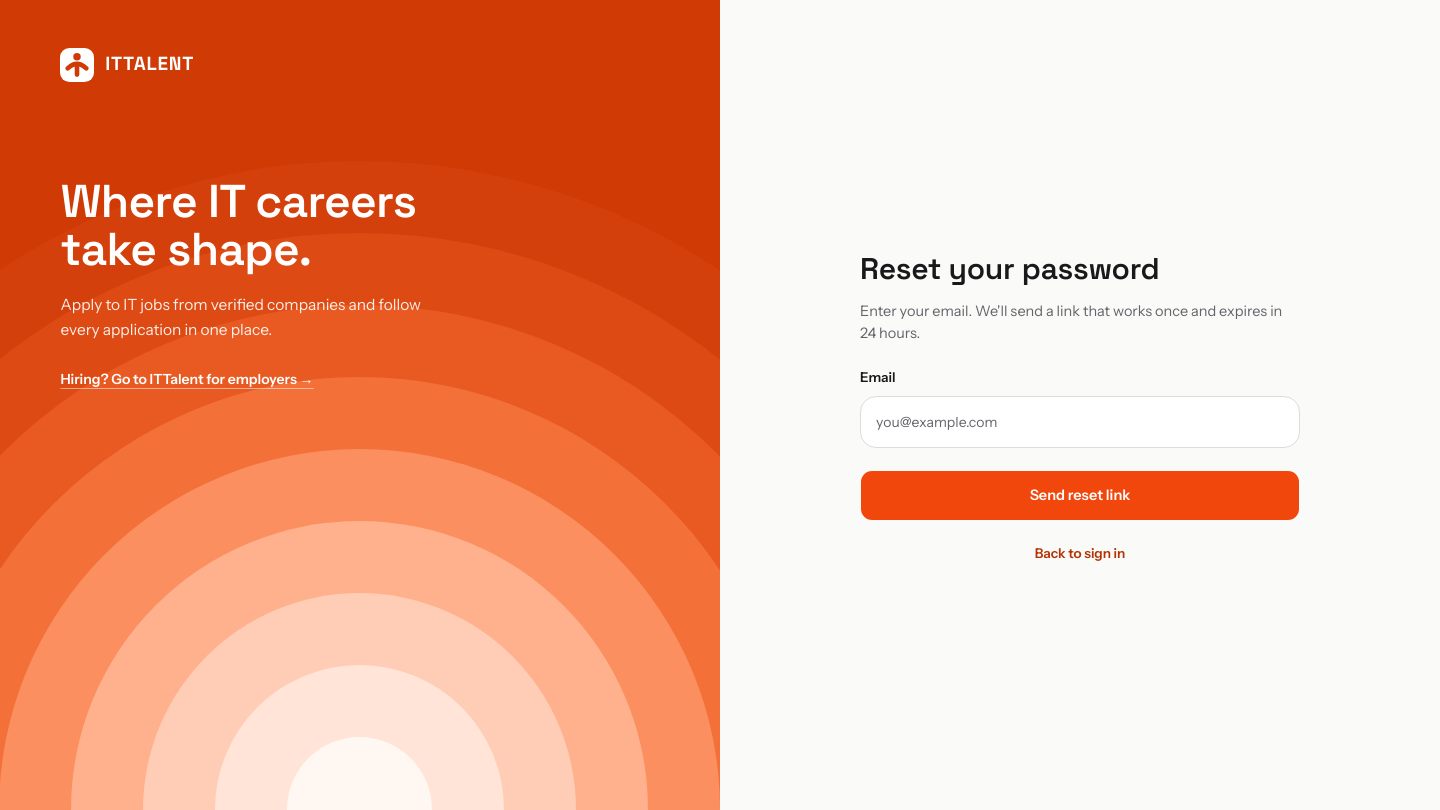
Test: ForgotPasswordPage › submits email and displays success notification on 200
Step 1. Type "user@example.com" into the field labelled "Email" → (1080, 422), box [860, 396, 1300, 448]
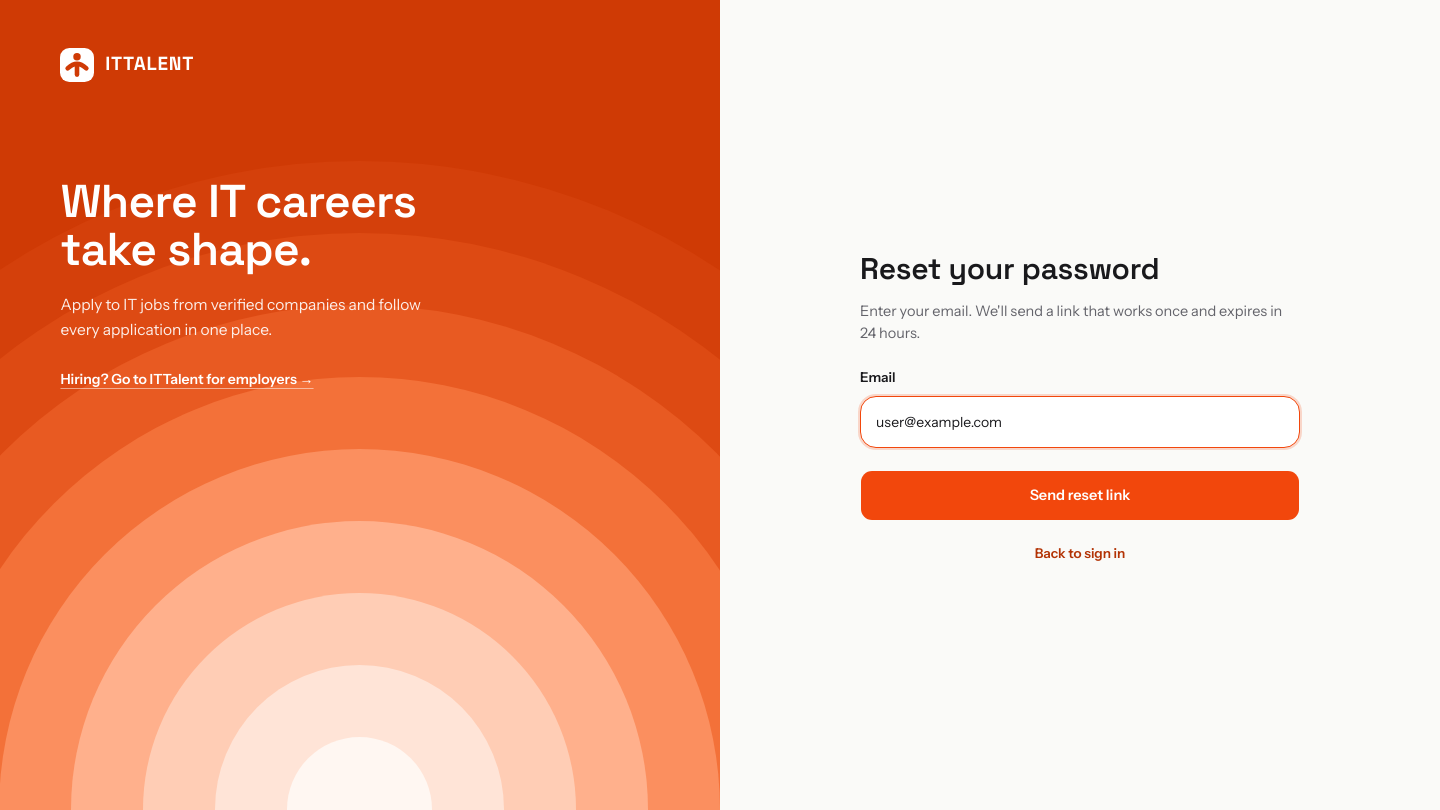
Step 2. Click the button "Send reset link" → (1080, 496), box [860, 470, 1300, 521]
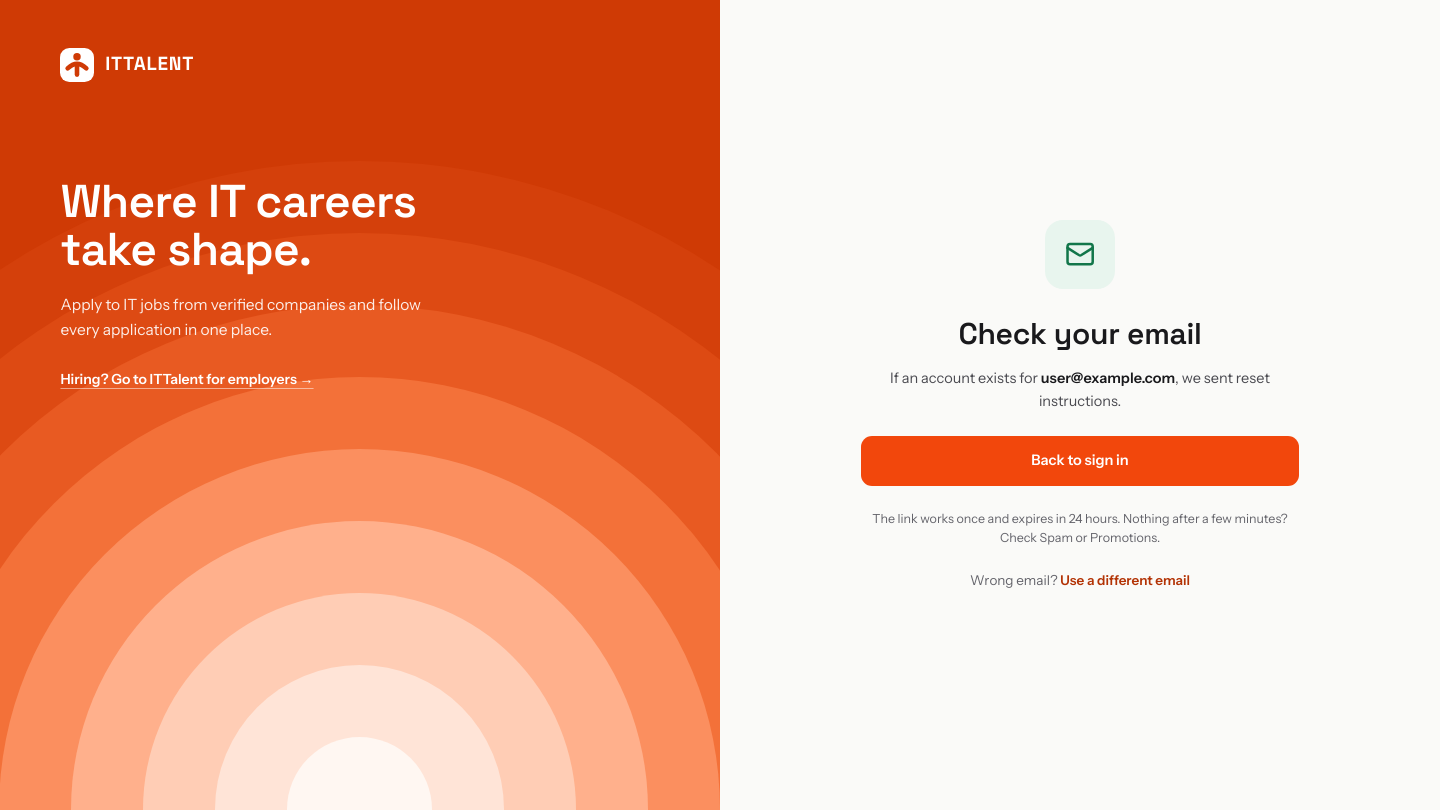
Expected: the heading "Check your email" is shown, [958, 314, 1202, 353]
Expected: the text "user@example.com" is shown, [1041, 369, 1175, 387]
Expected: the text "works once and expires in 24 hours" is shown, [872, 511, 1288, 545]
# "Wrong email?" returns to the form so another address can be tried.
Step 3. Click the button "Use a different email" → (1125, 580), box [1060, 570, 1190, 590]
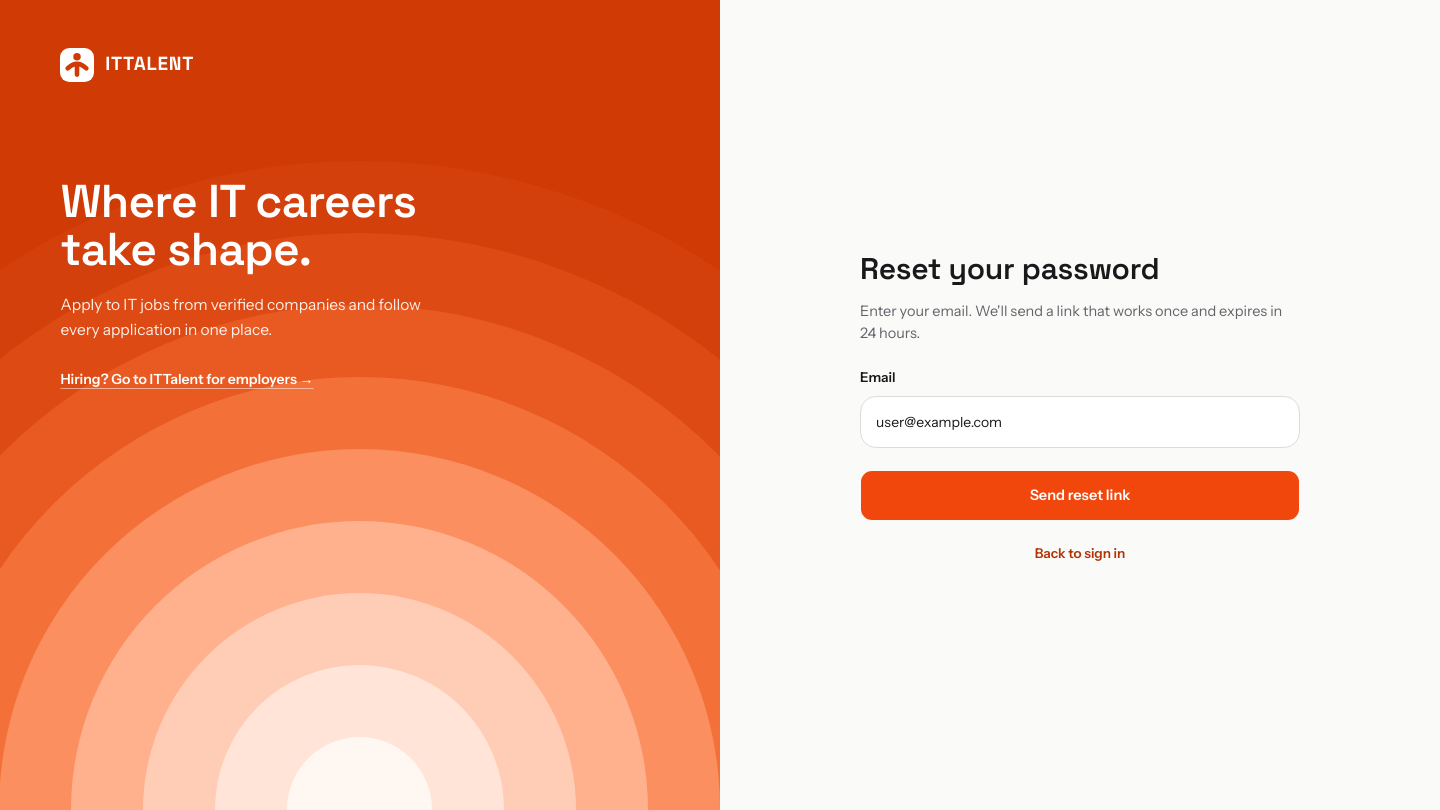
Expected: the heading "Reset your password" is shown, [860, 249, 1160, 288]
